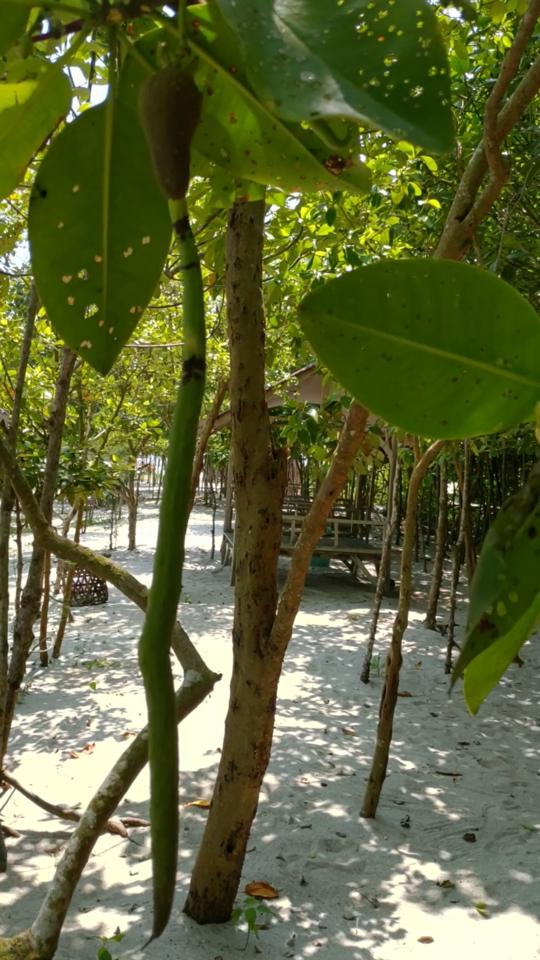mentah: (126, 49, 216, 951)
